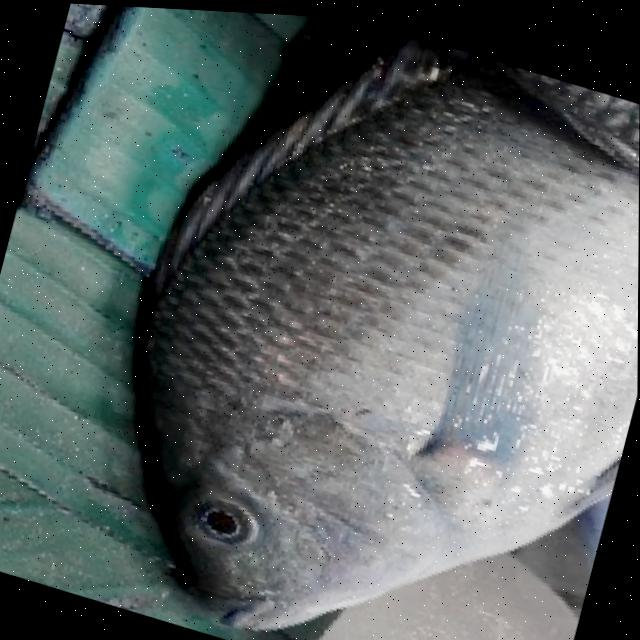Fresh: (102, 4, 640, 640)
